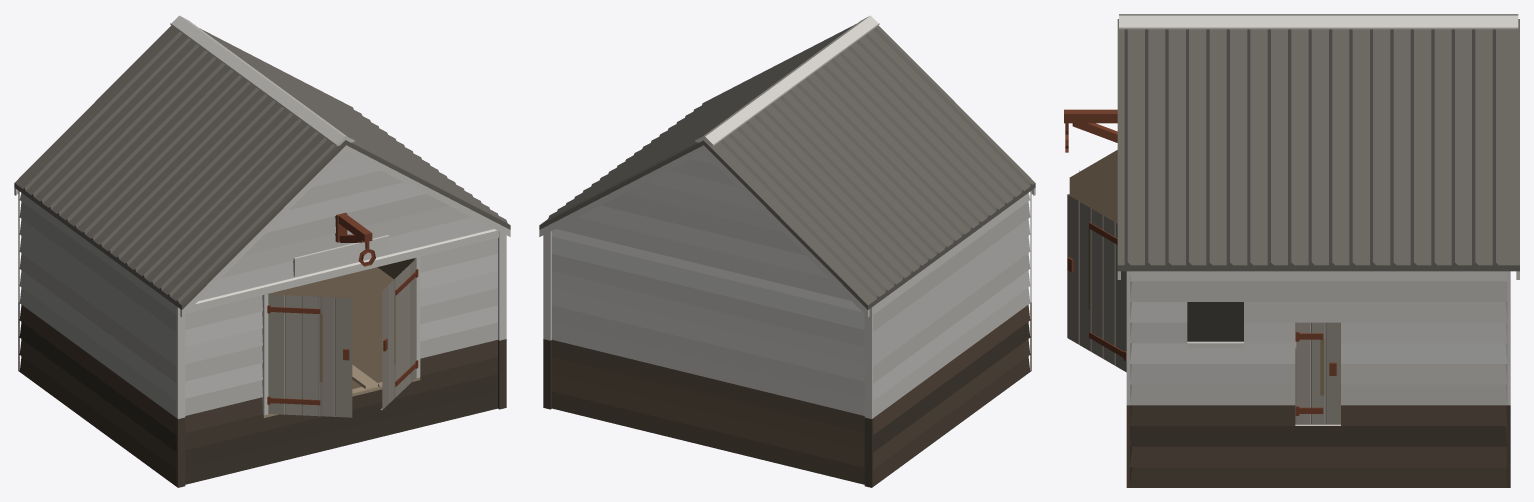
The model's file is boat-shed-74c94f.glb.
3 views of the same model, side by side, from view 1: azimuth 30°, elevation 25°; view 2: azimuth 150°, elevation 25°; view 3: azimuth 270°, elevation 25° (orthographic). The views are drawn at different scales.
Visible parts, largest first — view 1: shed-shell, door-l-mesh, door-r-mesh; view 2: shed-shell; view 3: shed-shell, door-r-mesh, door-side-mesh, door-l-mesh.
Boxes of the visible parts, x1=… form: shed-shell: x1=14, y1=15, x2=510, y2=487; door-l-mesh: x1=267, y1=294, x2=352, y2=417; door-r-mesh: x1=380, y1=258, x2=418, y2=410; shed-shell: x1=539, y1=15, x2=1035, y2=487; shed-shell: x1=1064, y1=14, x2=1519, y2=487; door-r-mesh: x1=1067, y1=194, x2=1126, y2=372; door-side-mesh: x1=1295, y1=322, x2=1339, y2=423; door-l-mesh: x1=1069, y1=150, x2=1117, y2=223.
Size of the model in its own units: 8 by 7.32 by 8.
